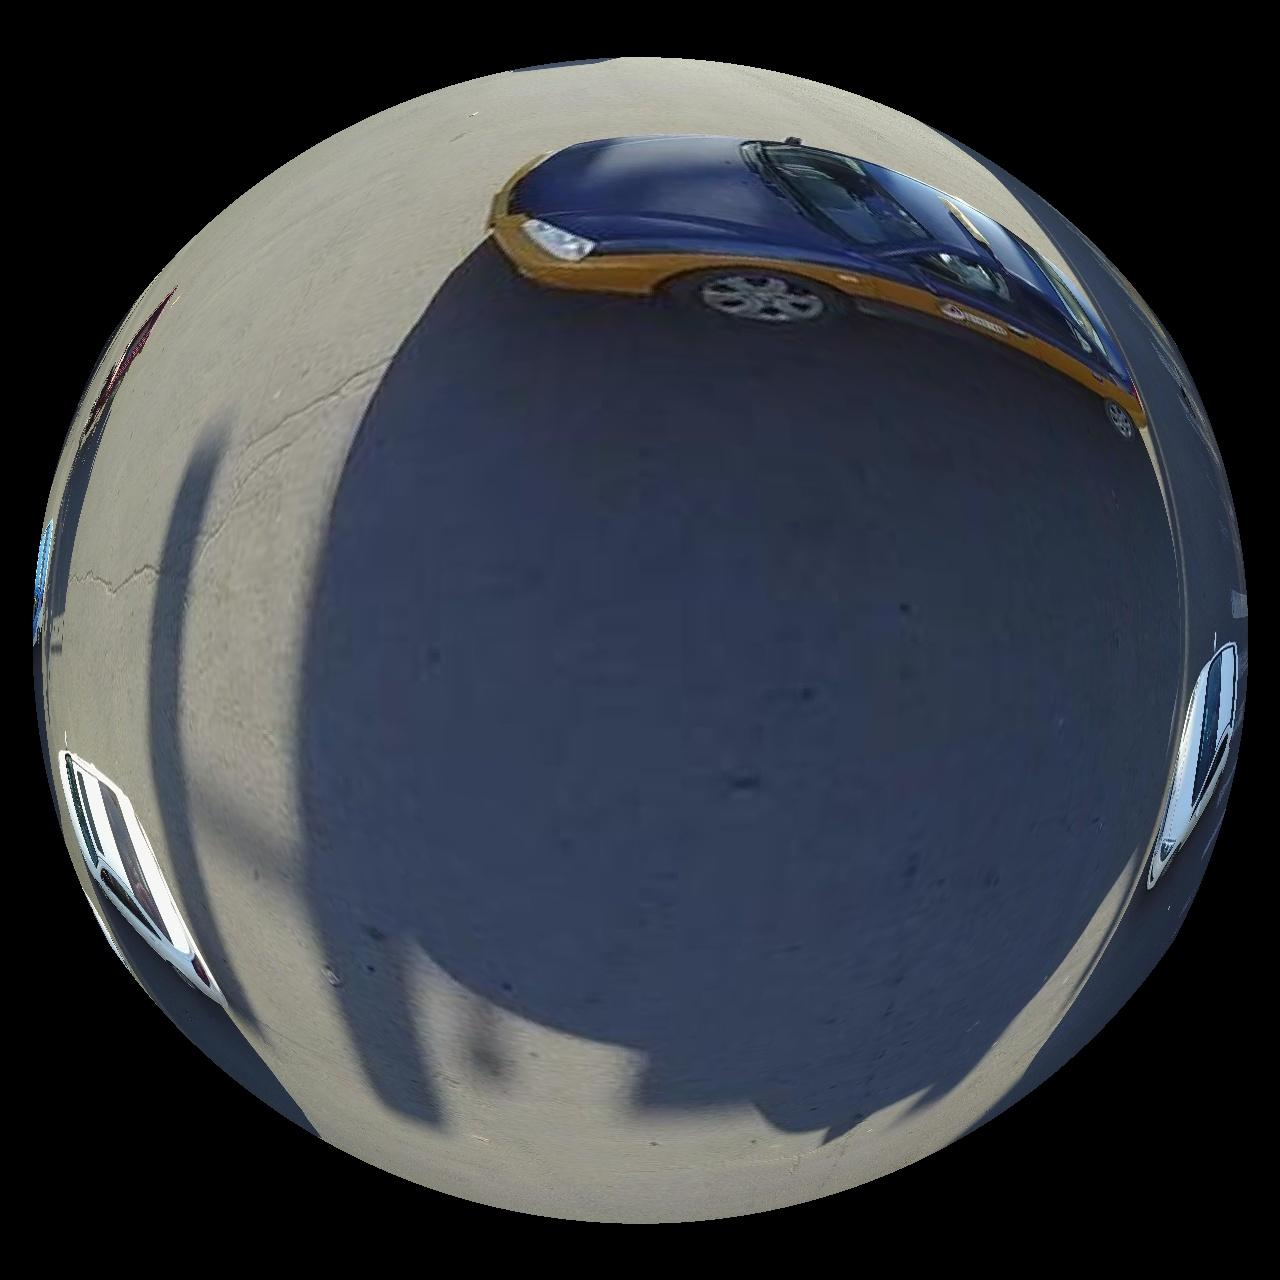cars: (492, 134, 1146, 426), (57, 751, 225, 1008), (1149, 643, 1241, 890)
